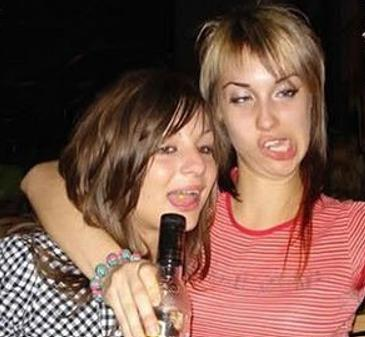Drunk: (224, 54, 313, 171), (145, 111, 212, 225)
